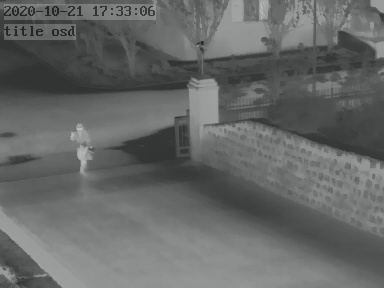person: (72, 119, 94, 175)
